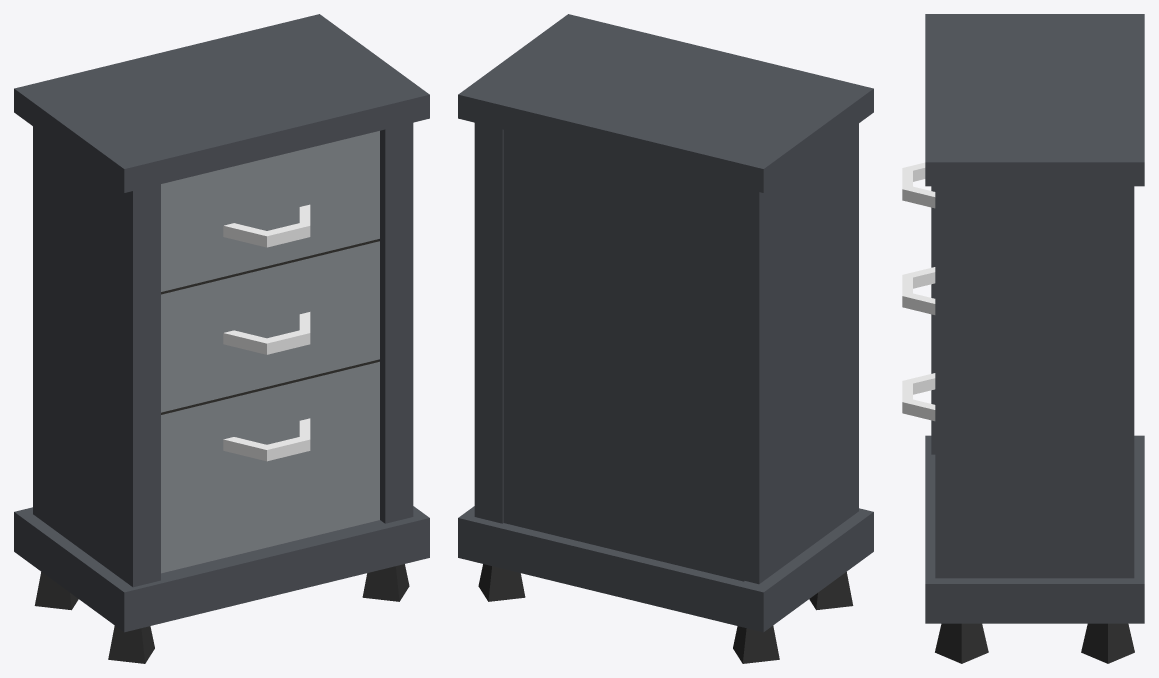
File: Drawer_2C.fbx
3 views of the same model, side by side, from view 1: azimuth 30°, elevation 25°; view 2: azimuth 150°, elevation 25°; view 3: azimuth 270°, elevation 25° (orthographic).
Parts seen in each view (by area): view 1: polySurface1694; view 2: polySurface1694; view 3: polySurface1694.
Part boxes in pixels (left/top/right/bottom): polySurface1694: left=14, top=14, right=429, bottom=663; polySurface1694: left=458, top=14, right=873, bottom=663; polySurface1694: left=902, top=14, right=1144, bottom=663.
Size of the model in its own units: 1.2 by 1.9 by 0.8282.
1 material, 1 textured.
